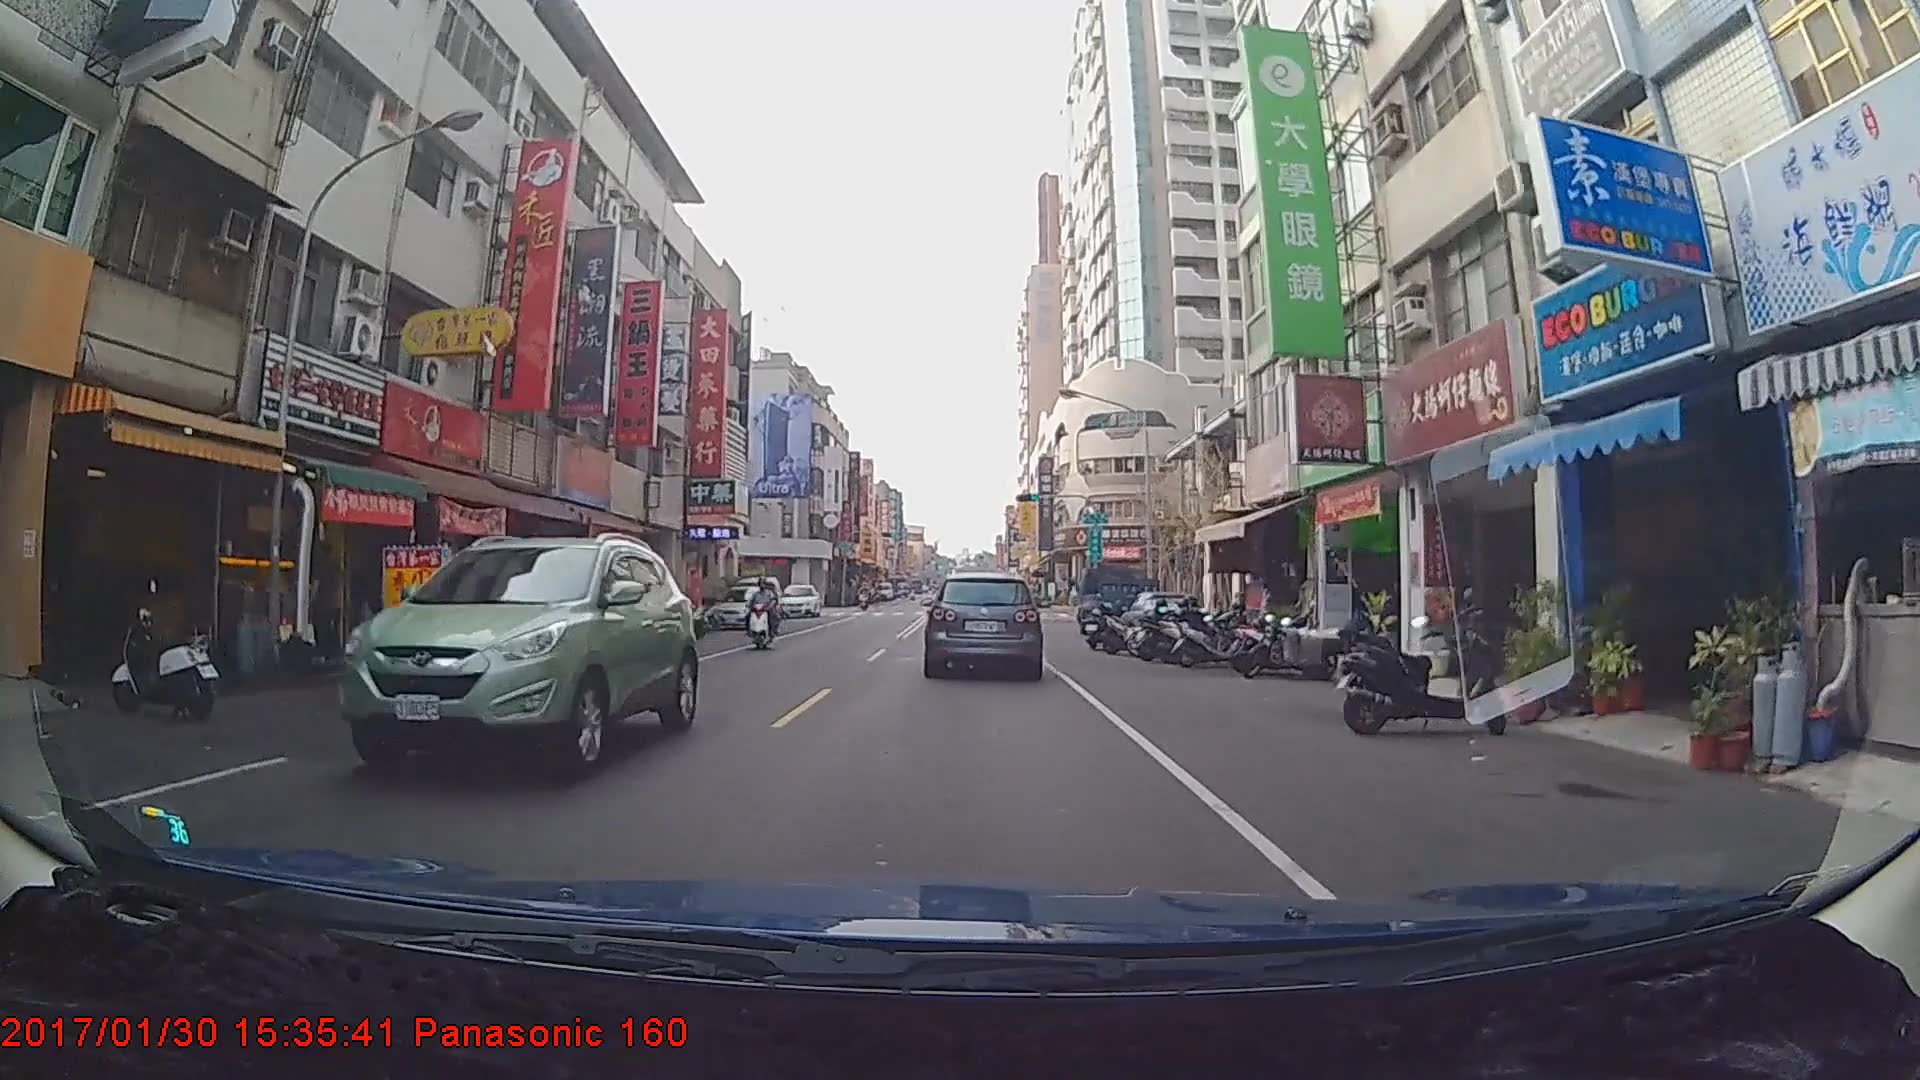rider: (747, 574, 786, 648)
vehicle: (336, 529, 700, 772), (925, 572, 1041, 676), (1073, 564, 1162, 635), (708, 583, 784, 631), (777, 583, 821, 619)
